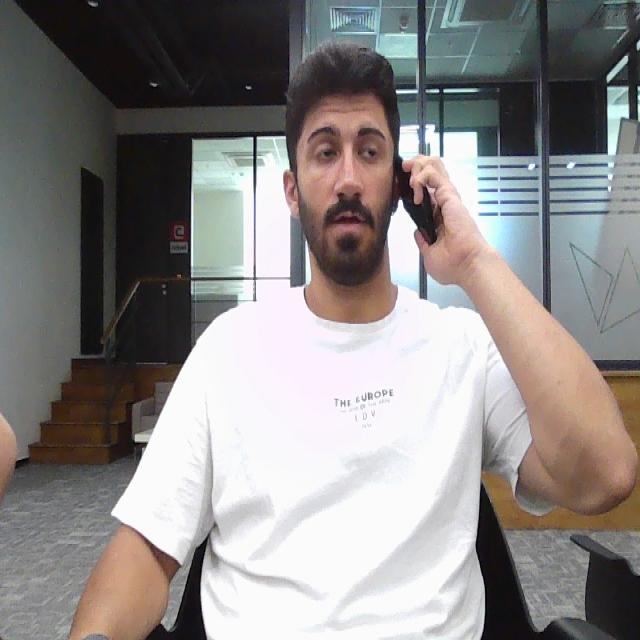phone: (396, 152, 439, 249)
